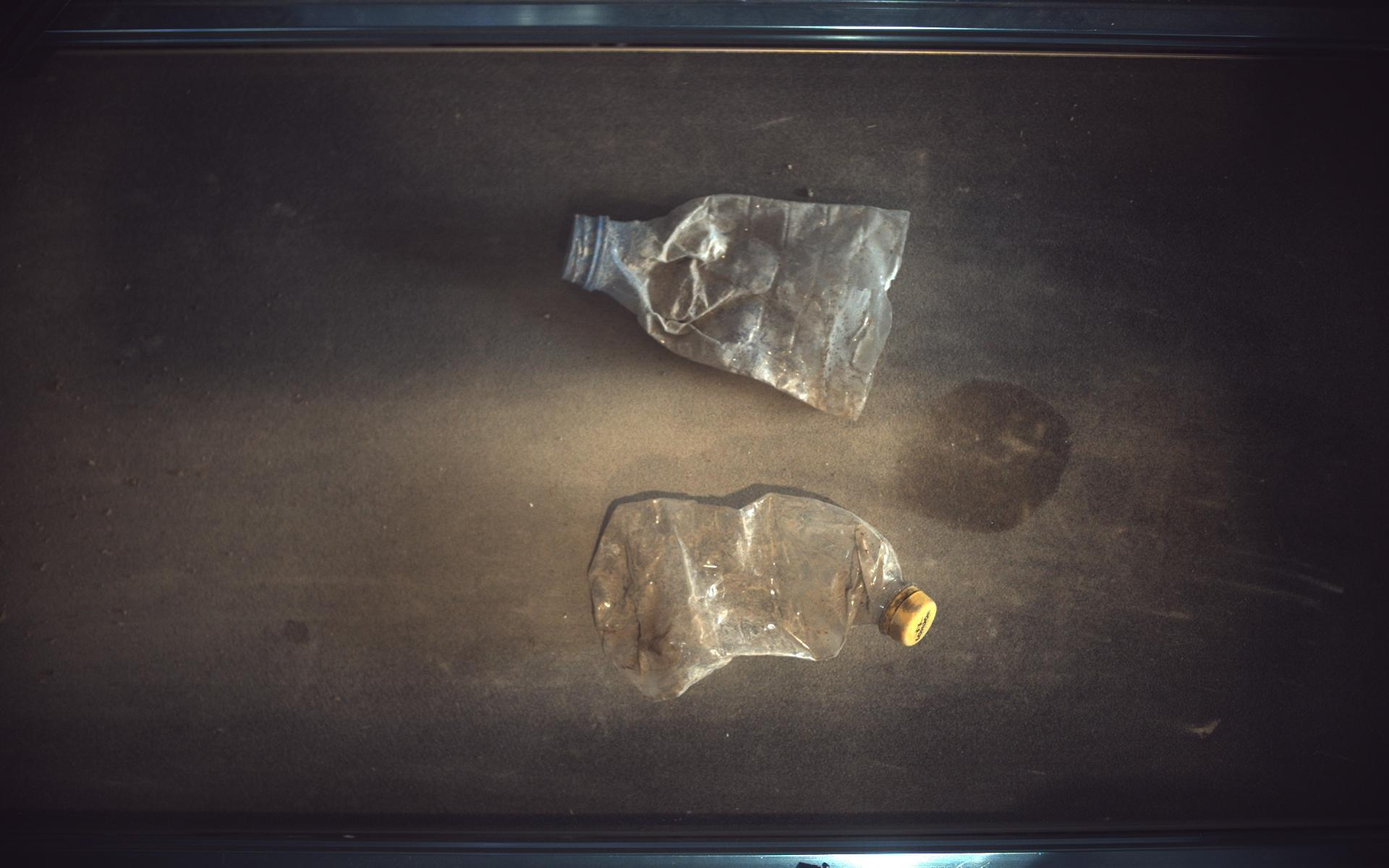general_w: (564, 193, 911, 420), (590, 487, 938, 701)
